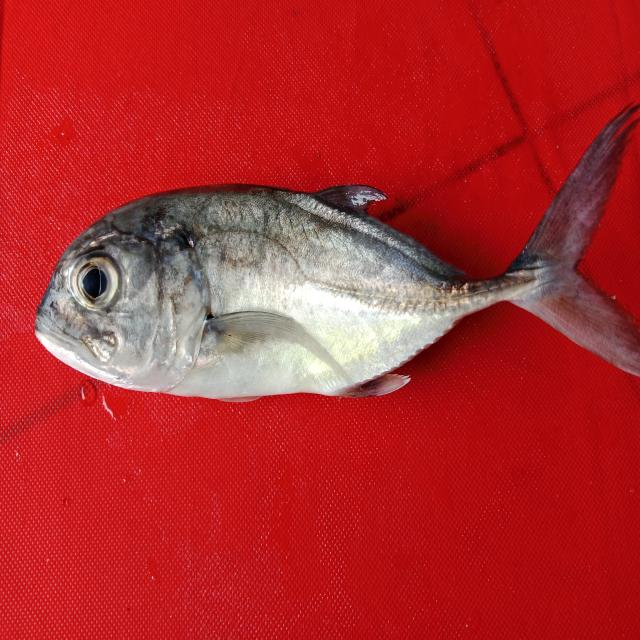ikan: (34, 100, 638, 402)
